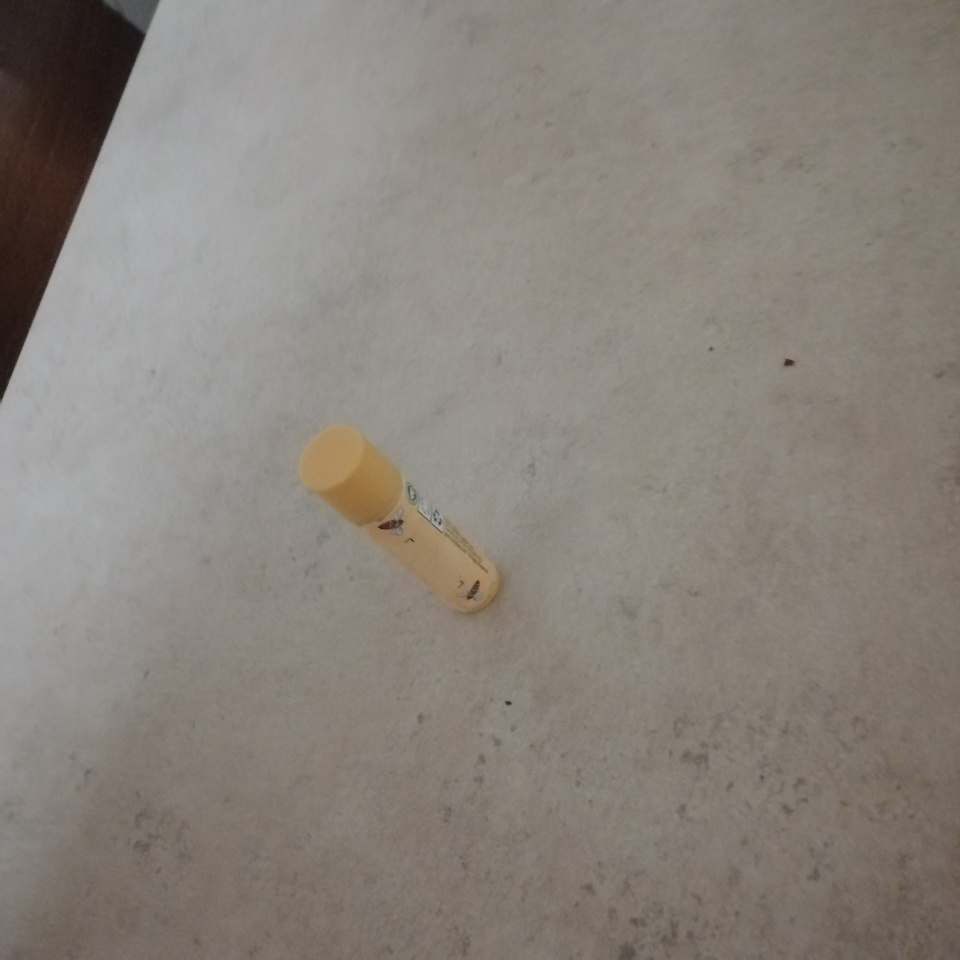chapstick: (299, 425, 500, 614)
